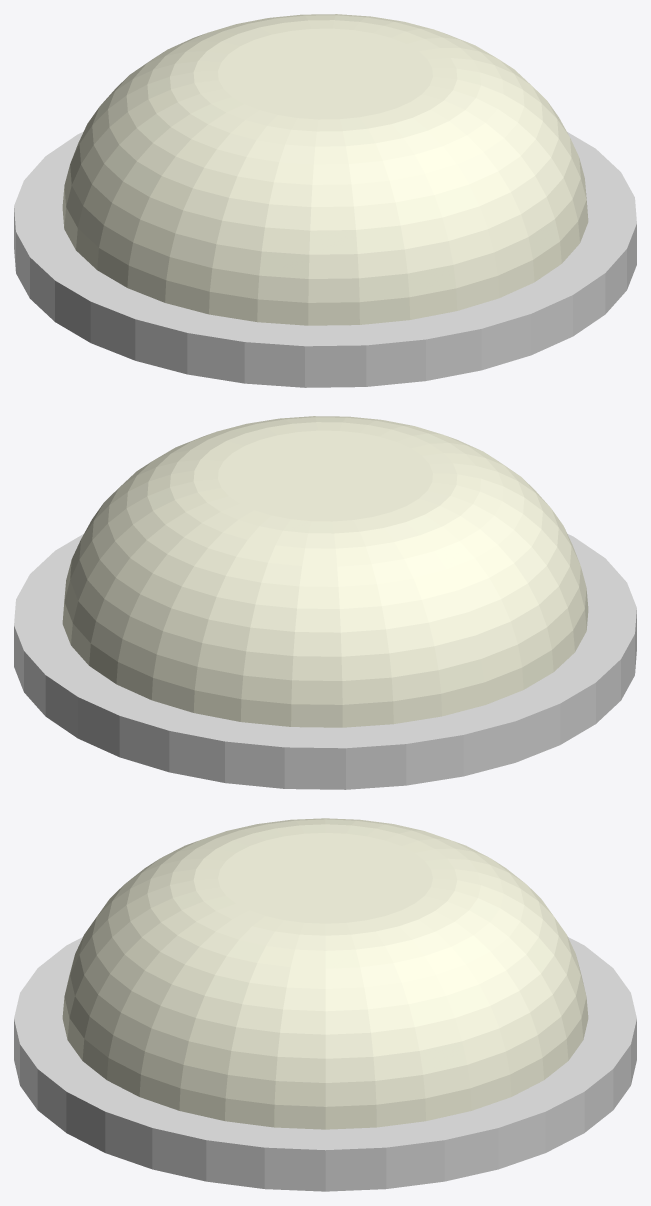
Rendered from kitchenLight.fbx.
3 renders of one model, top to bottom at view 1: azimuth 30°, elevation 25°; view 2: azimuth 150°, elevation 25°; view 3: azimuth 270°, elevation 25°, orthographic.
Visible parts, largest first — view 1: Light, Base; view 2: Light, Base; view 3: Light, Base.
Boxes of the visible parts, box(x1,y1,x2,y2) form: Light: box(62, 14, 588, 325); Base: box(14, 132, 636, 387); Light: box(62, 416, 588, 727); Base: box(14, 534, 636, 789); Light: box(62, 818, 588, 1129); Base: box(14, 937, 636, 1191).
Bounding box in the file's own units: 200 × 64.37 × 200.
